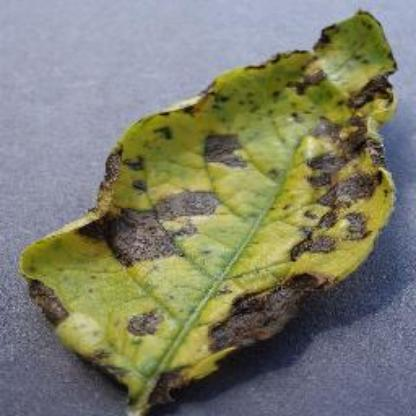Early-Blight: (21, 7, 397, 413)
